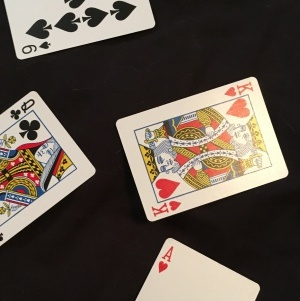card: (114, 77, 288, 224)
